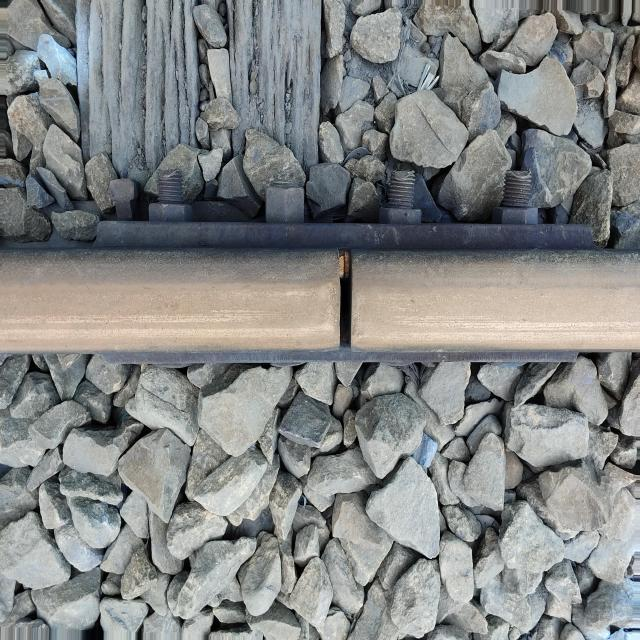crack: (314, 238, 381, 360)
